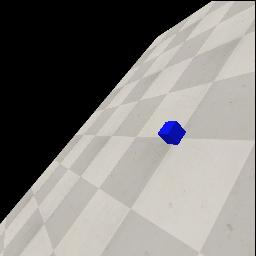box: (158, 121, 186, 145)
